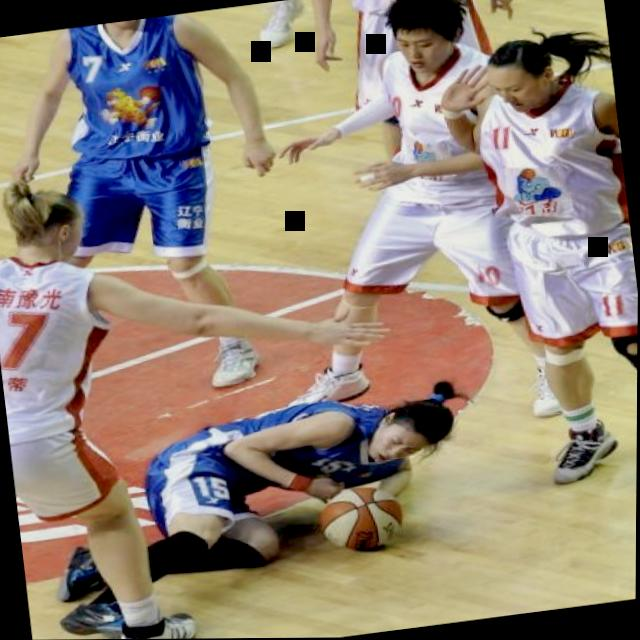Fall-Detected: (27, 371, 486, 617)
